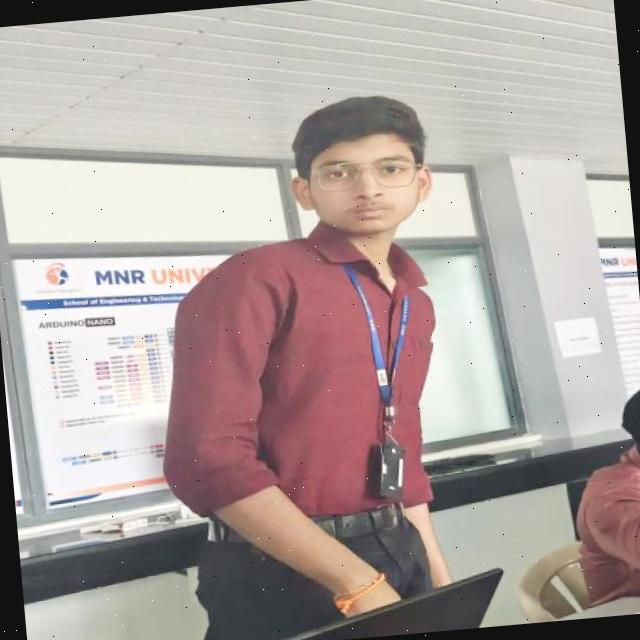Card: (380, 440, 405, 499)
Id strap: (344, 265, 409, 408)
